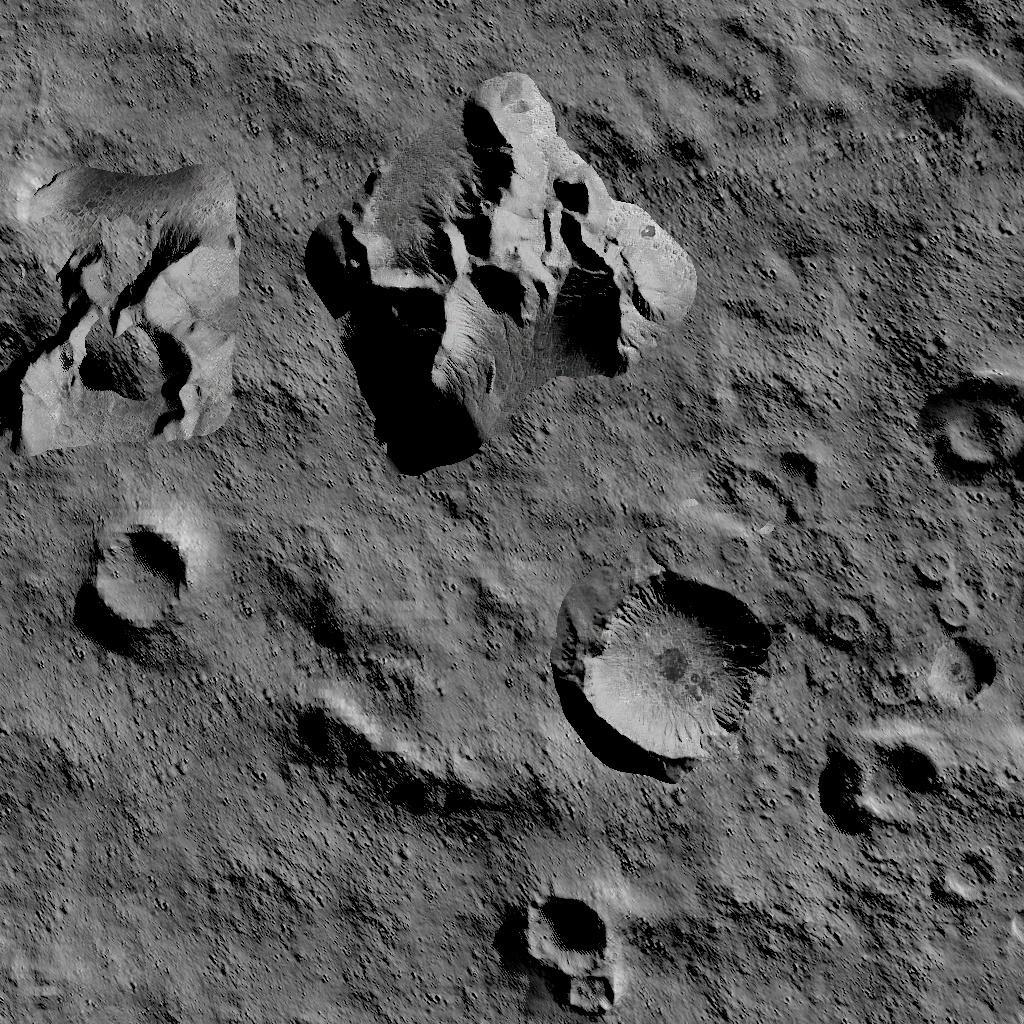Boulders: (308, 72, 696, 476), (0, 152, 238, 450), (288, 692, 560, 828), (911, 0, 1024, 153)
Crater: (576, 562, 775, 772), (513, 885, 618, 1024), (824, 722, 952, 836), (86, 520, 190, 635), (925, 372, 1024, 478)
Plan surface: (0, 650, 276, 1024), (0, 0, 293, 140), (293, 842, 498, 1024)
